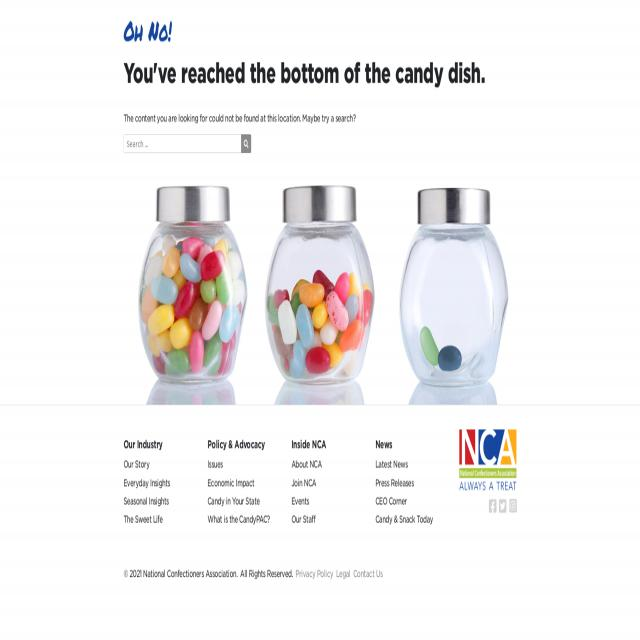button: (459, 430, 516, 491), (241, 134, 251, 153), (498, 499, 506, 514), (489, 499, 497, 513), (509, 499, 516, 513)
field: (124, 134, 242, 153)
